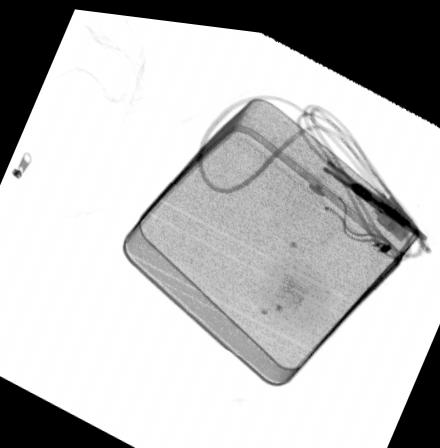Scissors: (286, 112, 427, 229)
